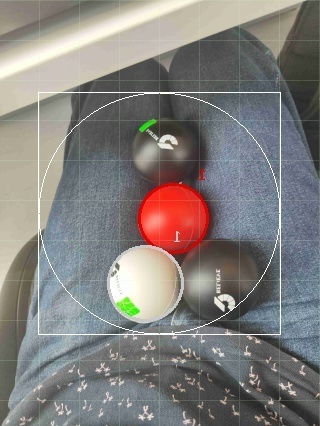Pelota blanca: (183, 238, 265, 320), (106, 244, 185, 325)
Pelota roja: (138, 180, 212, 254)
